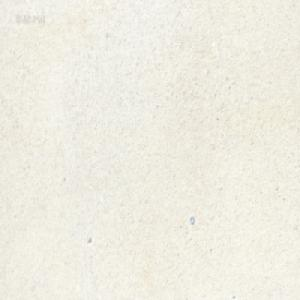Washer: (189, 215, 194, 225)
